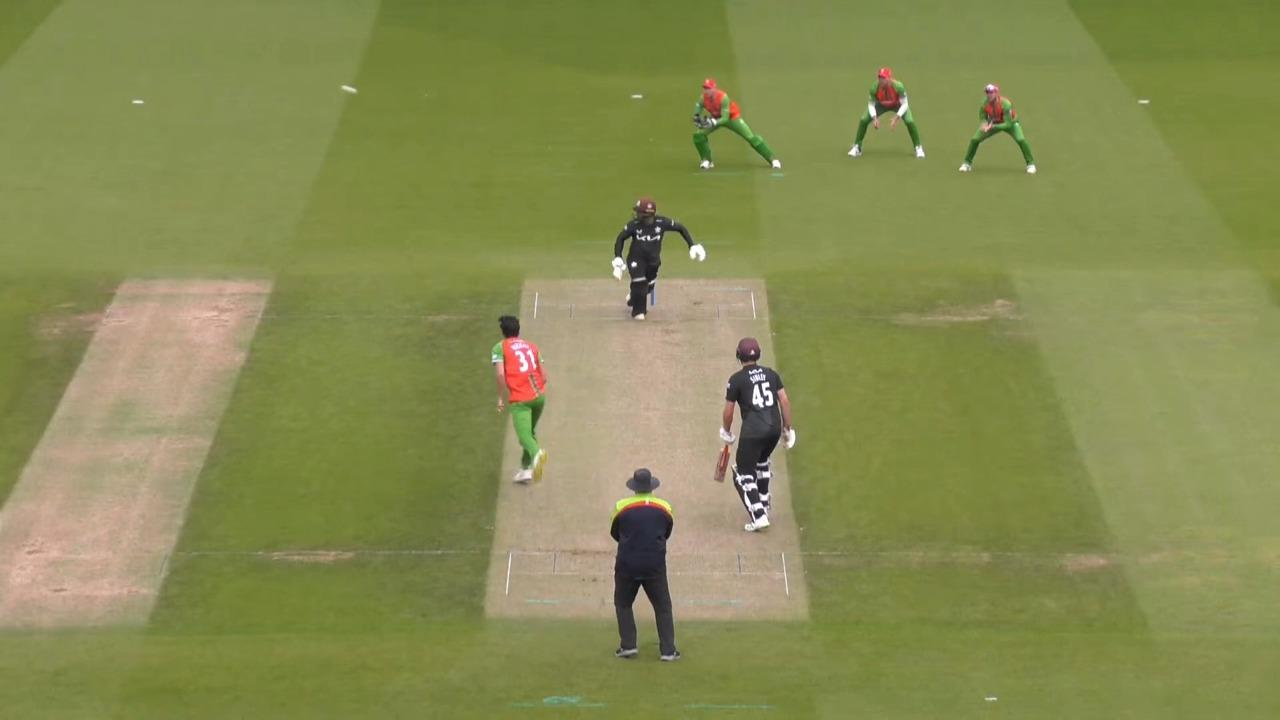sports ball: (340, 83, 359, 95)
